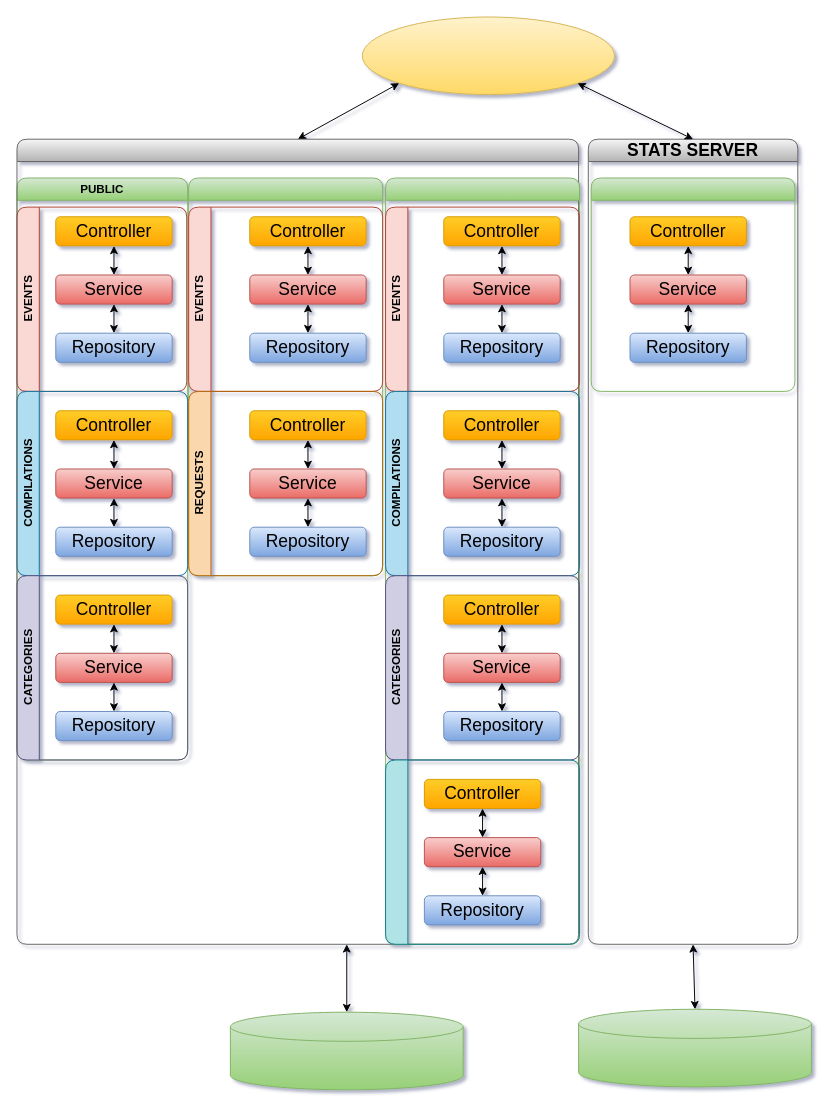
This 834x1113 diagram has some shape labels left out. Each missing label, with the box of its shape:
ADMIN: (385, 177, 580, 944)
MAIN DB: (229, 1011, 463, 1090)
MAIN SERVER: (16, 138, 579, 944)
PRIVATE: (188, 177, 383, 576)
STATS: (590, 177, 795, 391)
STATS CLIENT: (361, 16, 614, 95)
STATS DB: (578, 1008, 811, 1087)
USERS: (385, 759, 580, 944)
